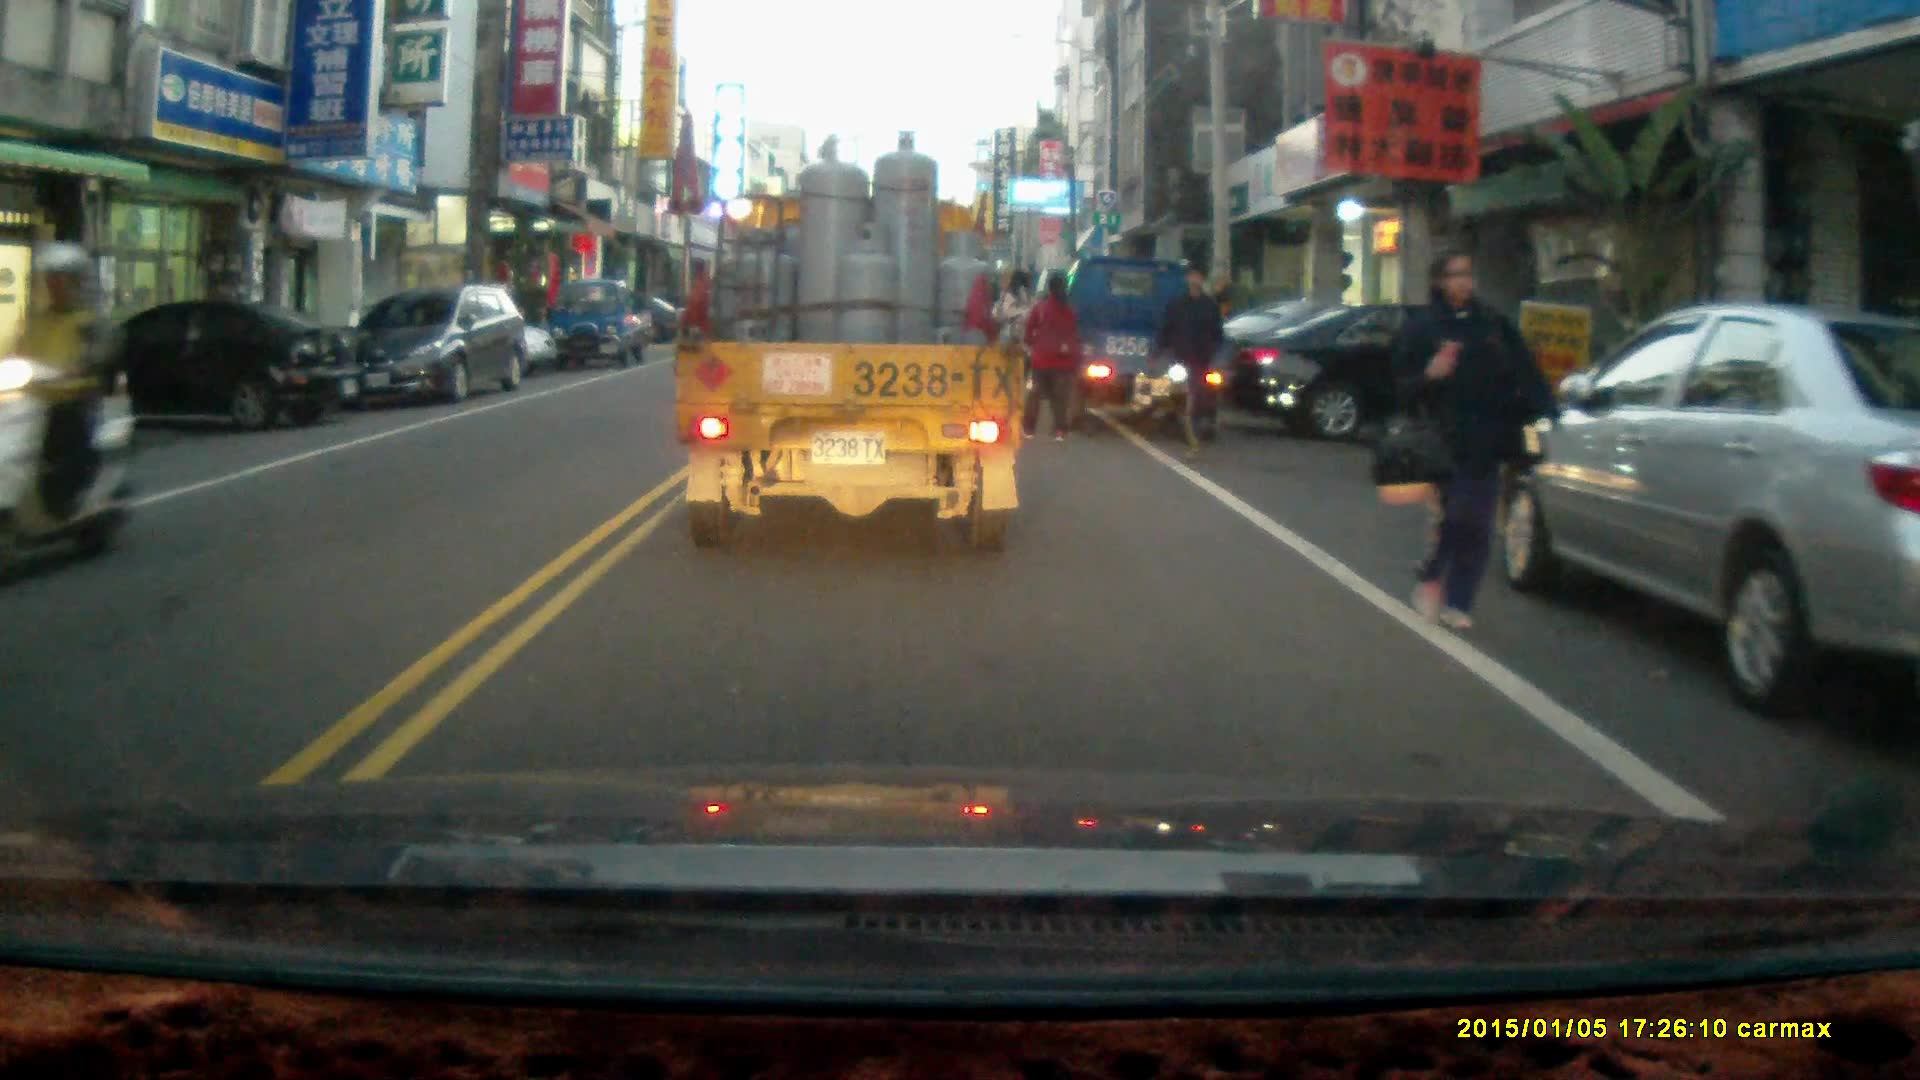pedestrian: (1388, 242, 1552, 639), (1153, 266, 1218, 466), (1019, 272, 1077, 447)
rider: (0, 240, 140, 584)
vehicle: (1475, 306, 1920, 724), (675, 129, 1034, 560), (1216, 299, 1553, 466), (10, 300, 362, 438), (1052, 260, 1250, 445), (341, 288, 535, 412), (548, 279, 655, 373)
